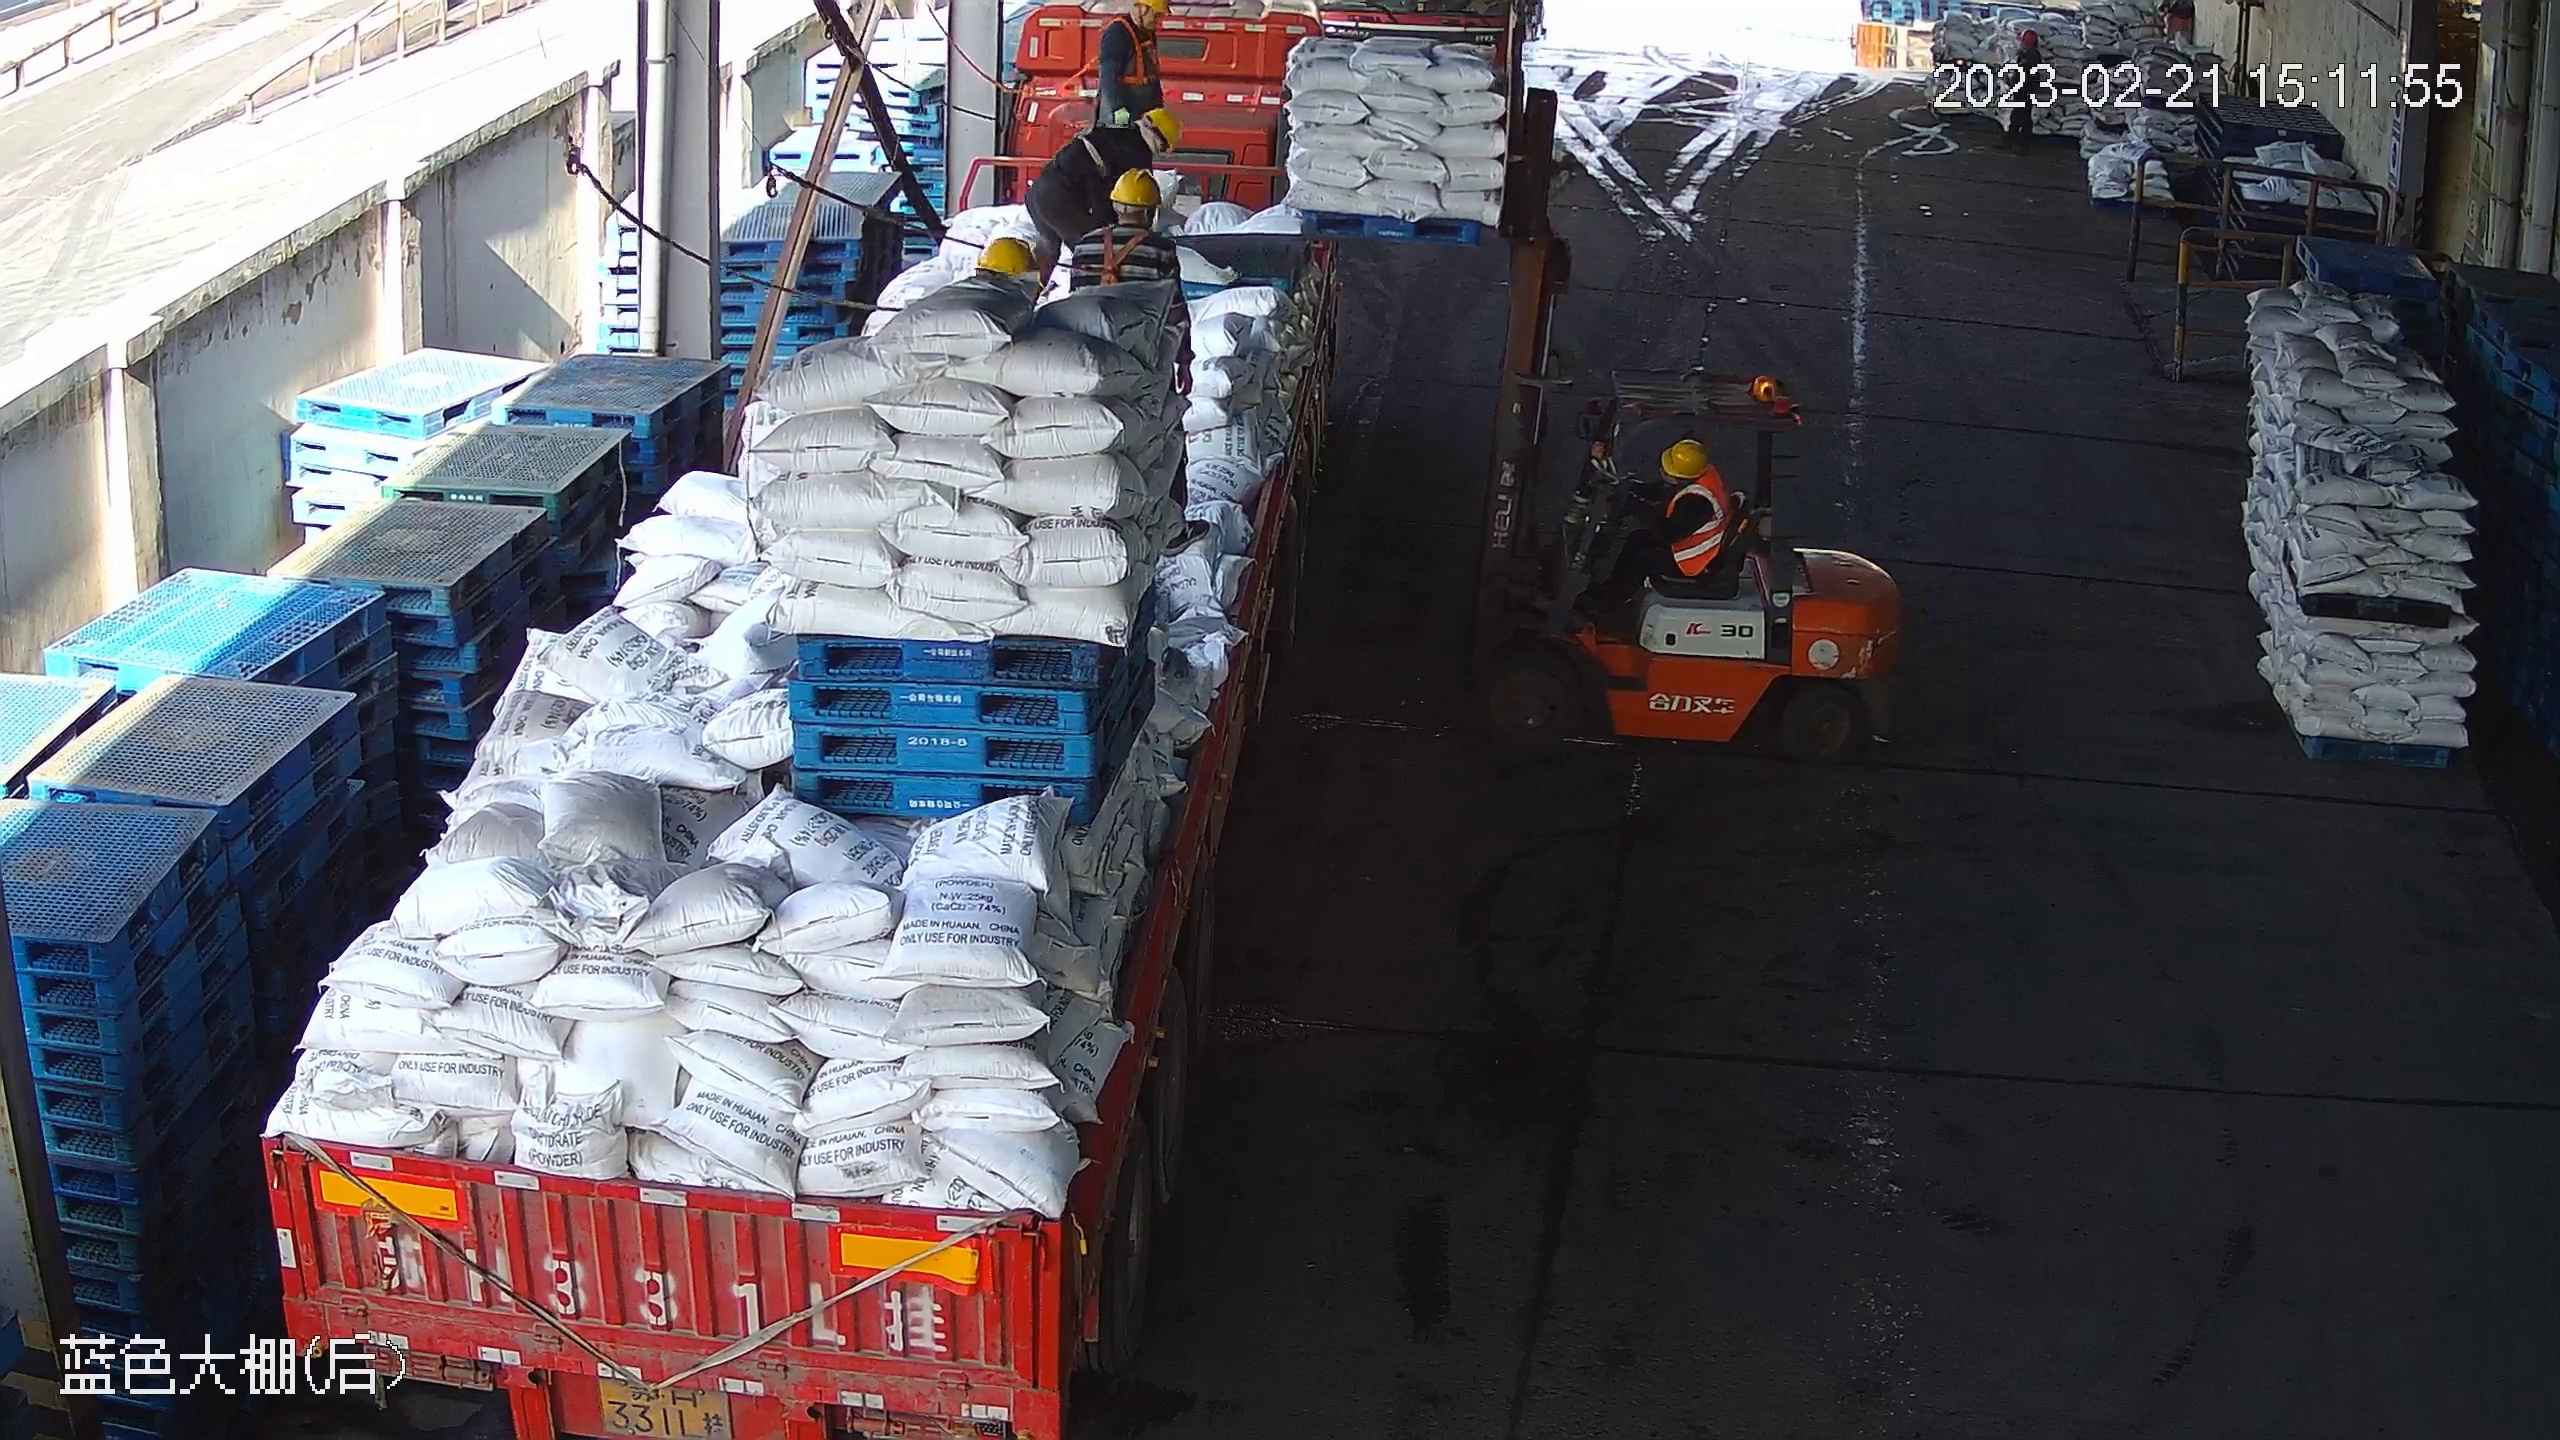belt: (1101, 16, 1162, 85), (1072, 123, 1146, 179), (1098, 227, 1151, 288)
head: (1072, 167, 1176, 264), (1661, 439, 1731, 516), (1098, 107, 1184, 168), (1101, 2, 1172, 50)
helmet: (975, 236, 1040, 275), (1108, 167, 1162, 206), (1660, 439, 1711, 478), (1144, 106, 1183, 153), (1132, 1, 1171, 14)
people: (1023, 105, 1184, 286), (1577, 437, 1730, 612), (1098, 1, 1172, 124)
truck: (258, 1, 1340, 1440)
